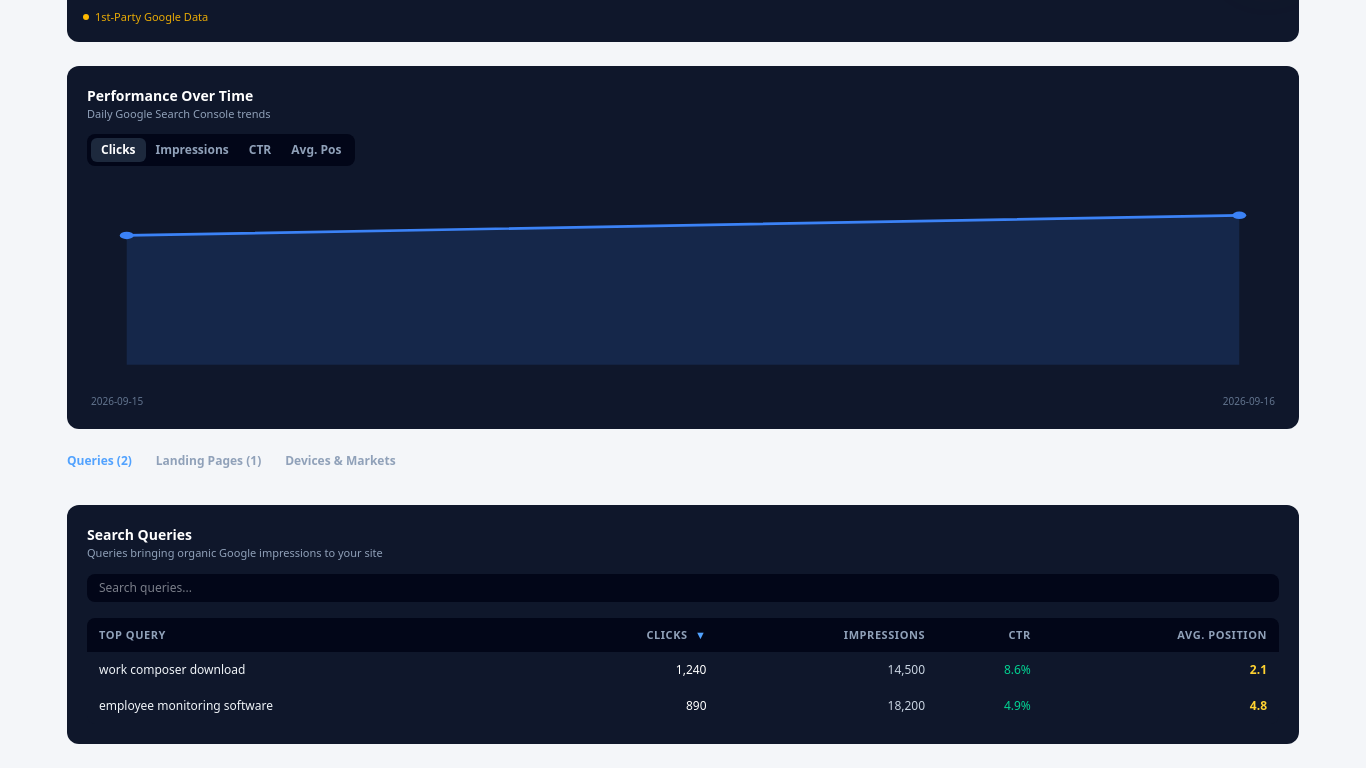
GscPerformanceWorkspace Component › opens and closes Screen 33 Query Detail Drawer when clicking a query row
(page scrolled)
Expected: the element with test id "gsc-query-table" is shown, [67,505,1299,744]
# Click query row
Step 1. Click the text "work composer download" → (172, 670), box [99,662,245,678]
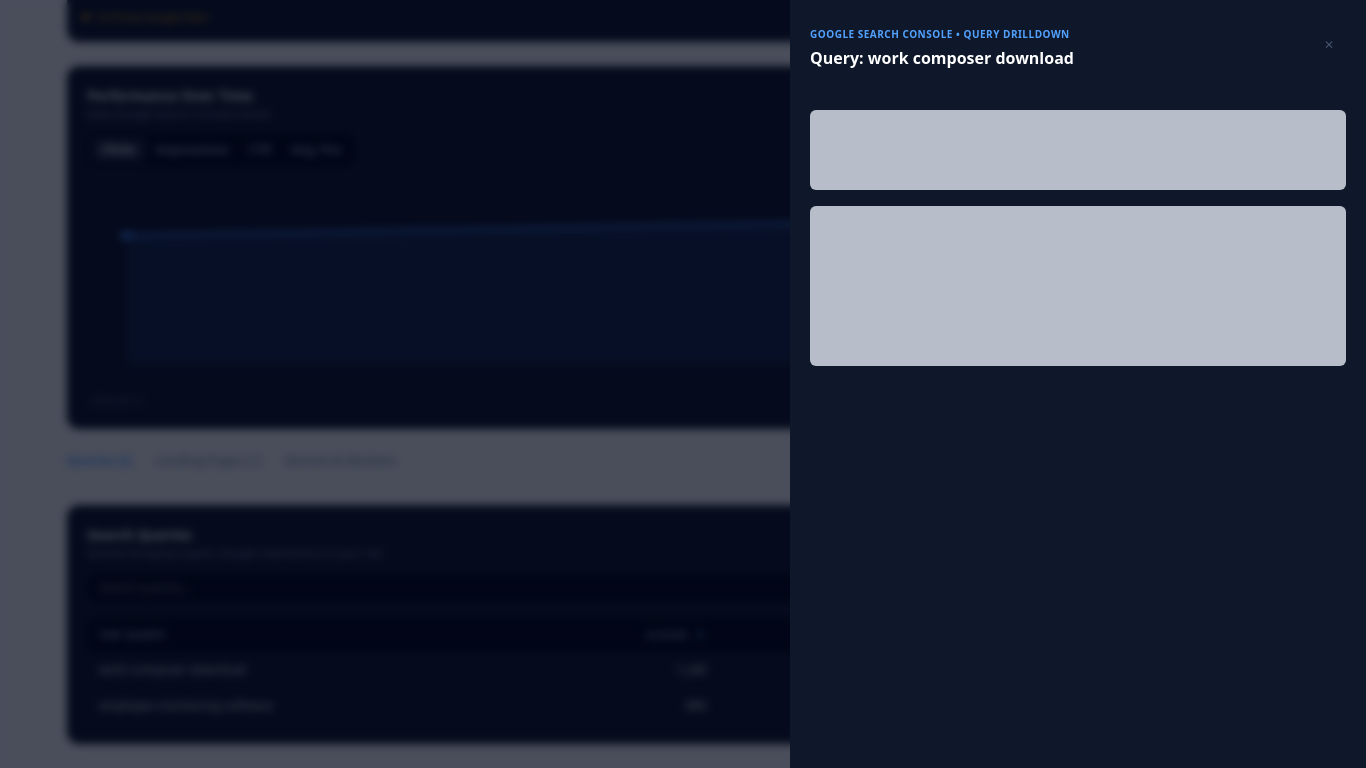
Expected: the element with test id "gsc-query-drawer" is shown
Expected: the text "Google Search Console • Query Drilldown" is shown, [810,27,1070,41]
# Close drawer via close button
Step 2. Click the button "✕" → (1329, 45), box [1312,29,1346,61]
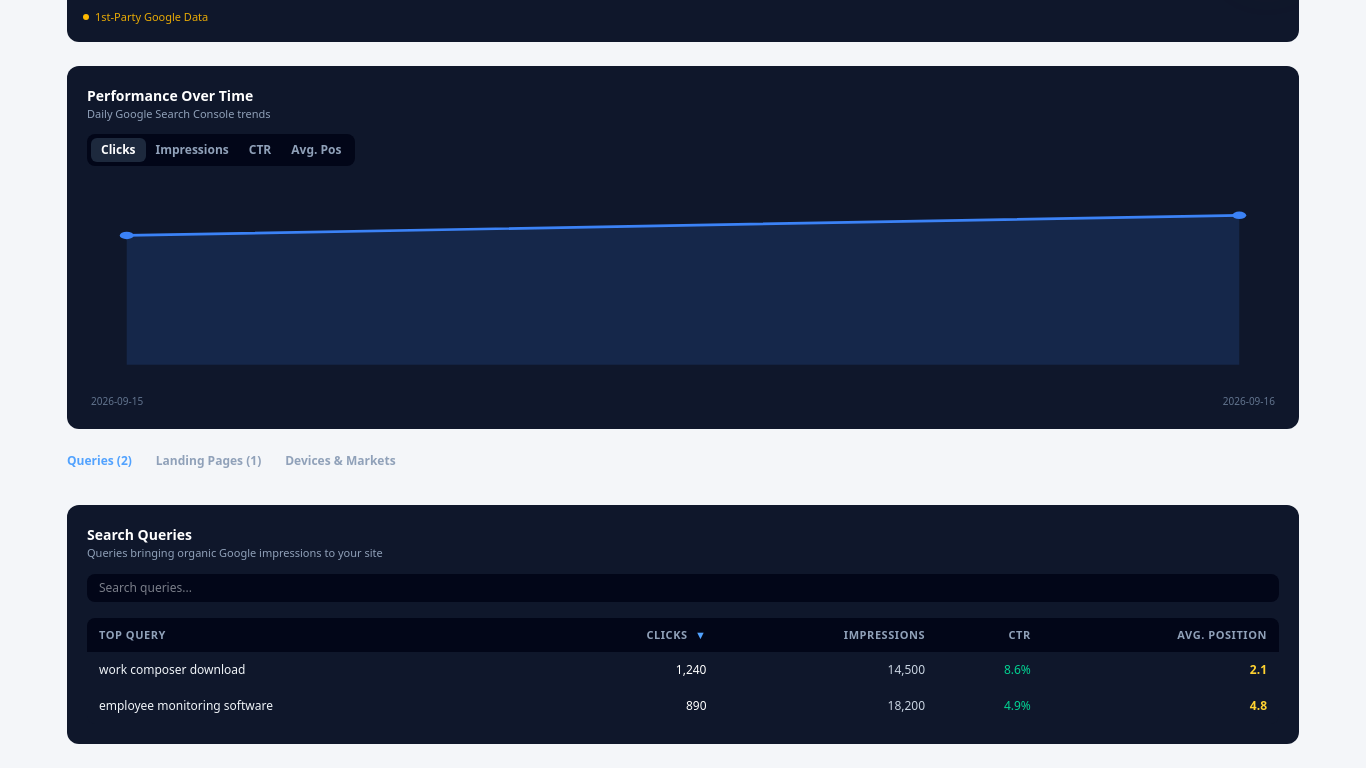
Expected: the element with test id "gsc-query-drawer" is gone
